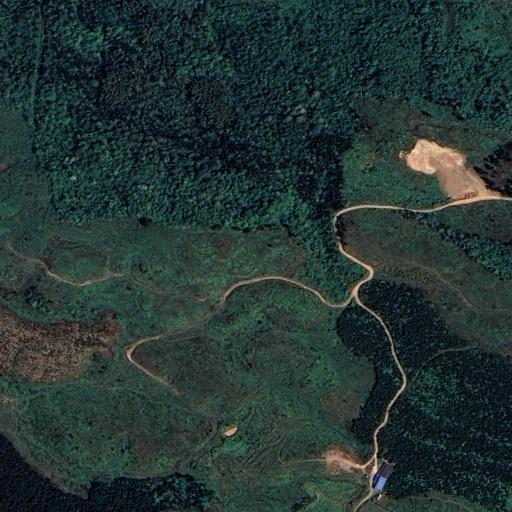landslide: (396, 136, 501, 200)
